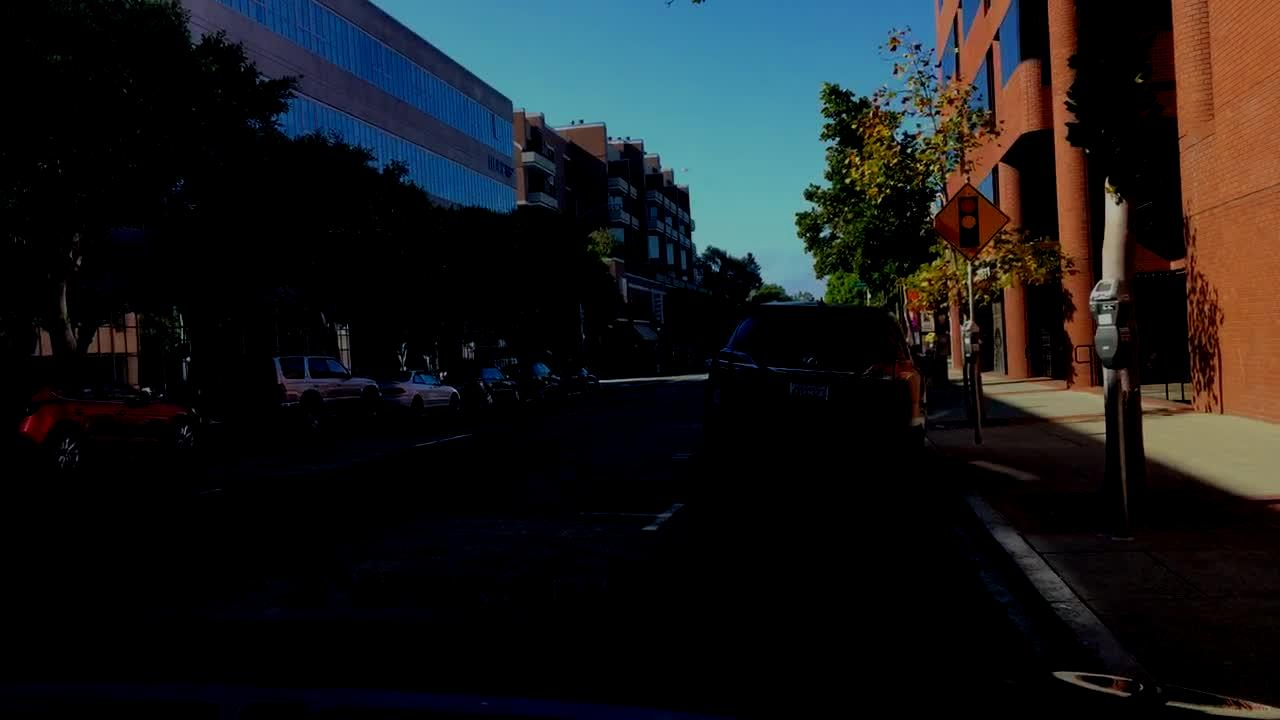lexus: (796, 348, 825, 370)
